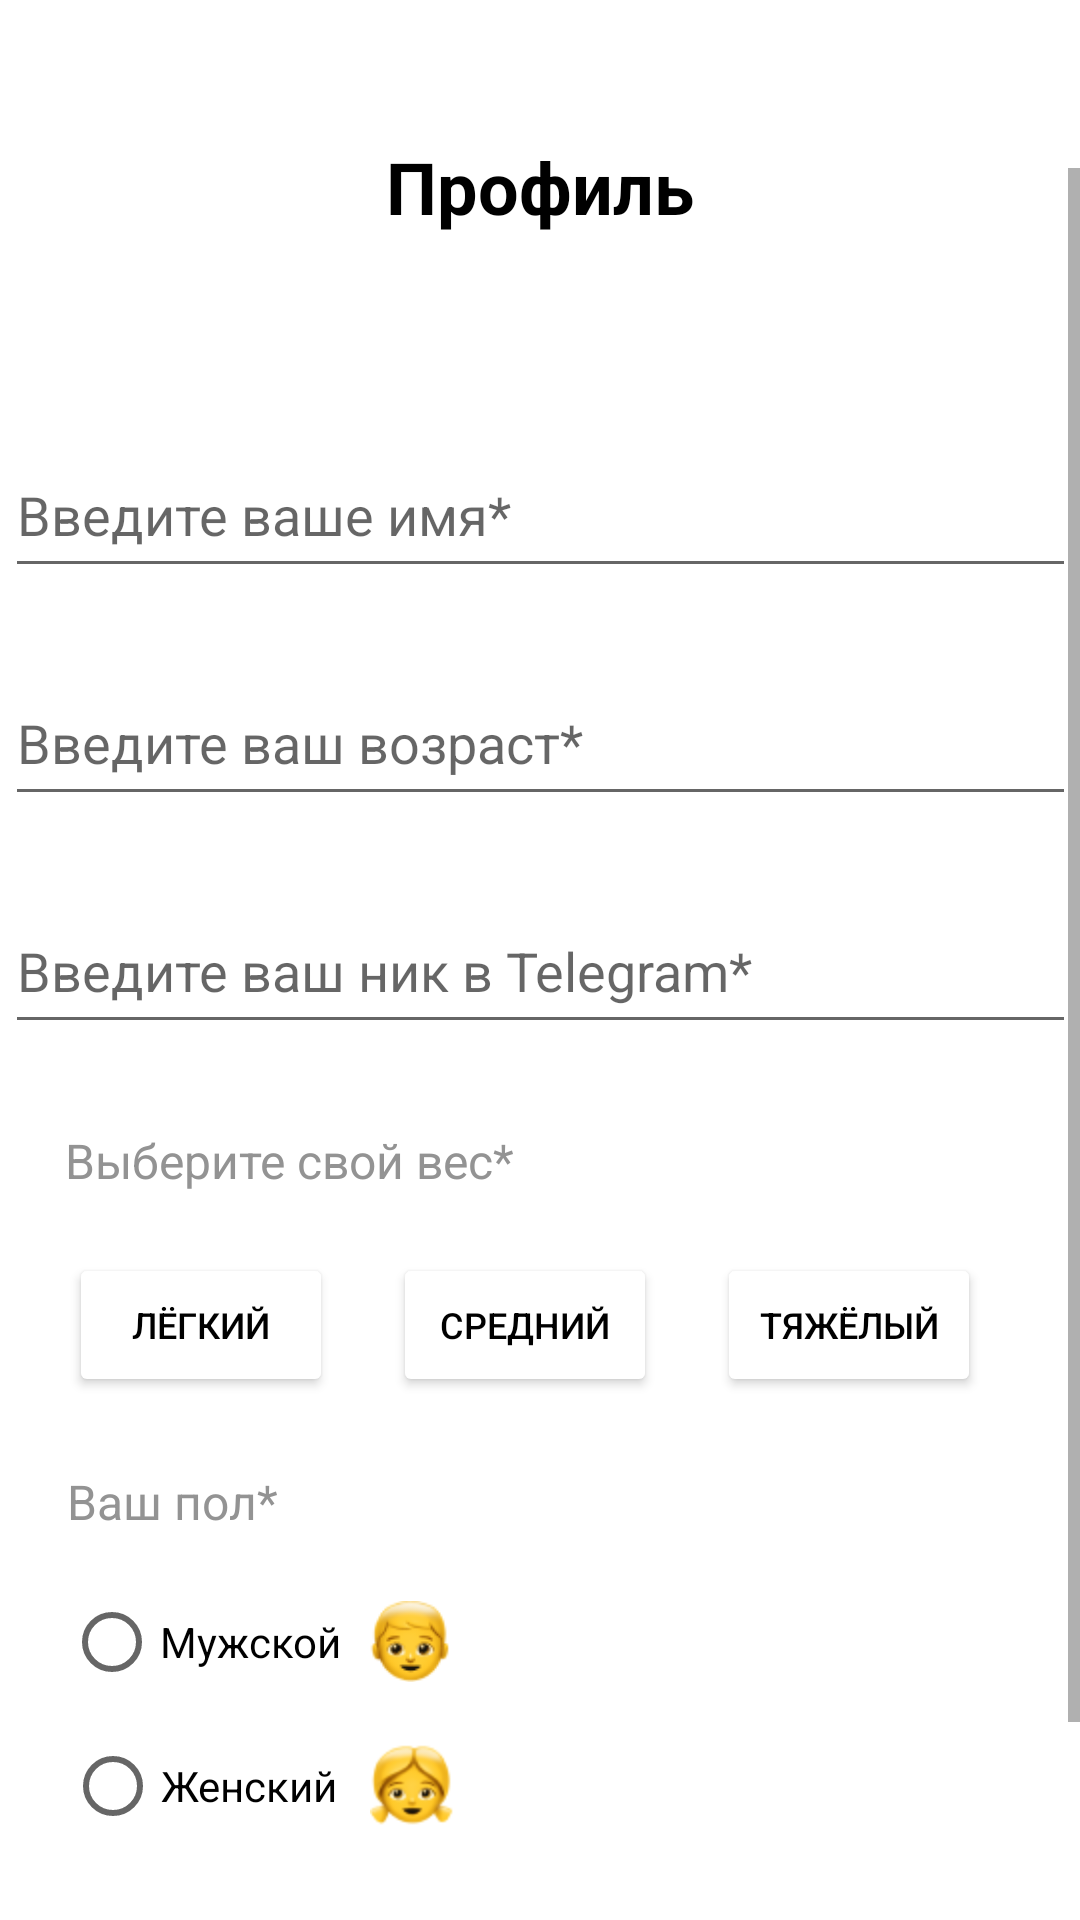

Icons on this 1080x1920 Android screen, each with the point to tap as point (x, y):
men: point (410, 1641)
woman: point (411, 1784)
